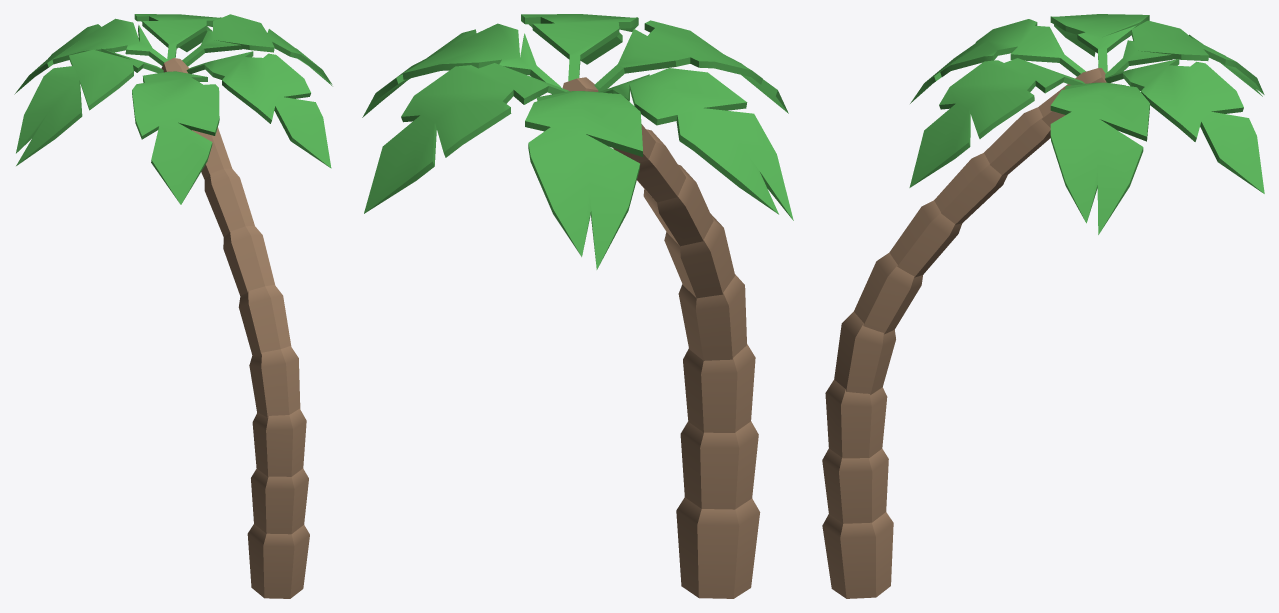
Rendered from palm_tree_lowpoly.glb.
The picture shows the model from 3 angles, left to right: view 1: azimuth 30°, elevation 25°; view 2: azimuth 150°, elevation 25°; view 3: azimuth 270°, elevation 25°; orthographic projection. The views are drawn at different scales.
Parts seen in each view (by area): view 1: pPlane1_lambert2_0, pCylinder10_lambert3_0; view 2: pPlane1_lambert2_0, pCylinder10_lambert3_0; view 3: pPlane1_lambert2_0, pCylinder10_lambert3_0.
Boxes of the visible parts, x1=… form: pPlane1_lambert2_0: x1=14, y1=14, x2=332, y2=204; pCylinder10_lambert3_0: x1=161, y1=58, x2=309, y2=598; pPlane1_lambert2_0: x1=362, y1=14, x2=793, y2=269; pCylinder10_lambert3_0: x1=562, y1=77, x2=760, y2=598; pPlane1_lambert2_0: x1=909, y1=14, x2=1264, y2=234; pCylinder10_lambert3_0: x1=822, y1=68, x2=1106, y2=598.
Bounding box in the file's own units: 0.0822 × 0.1148 × 0.0861.
